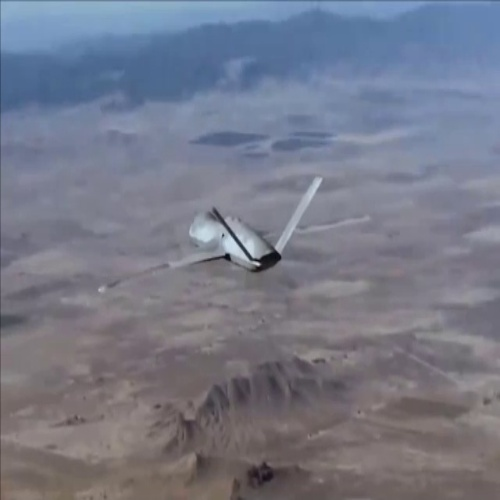uav927: (86, 173, 374, 294)
